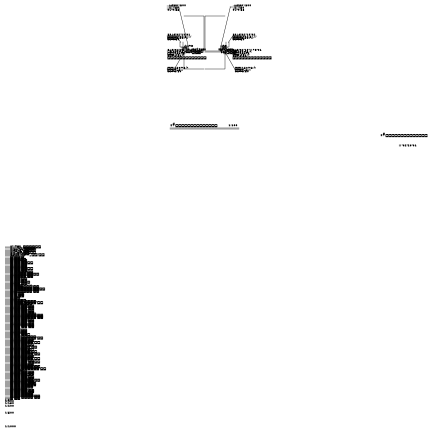room: (326, 382, 363, 420), (365, 382, 402, 420), (326, 362, 363, 381), (365, 362, 402, 381)
